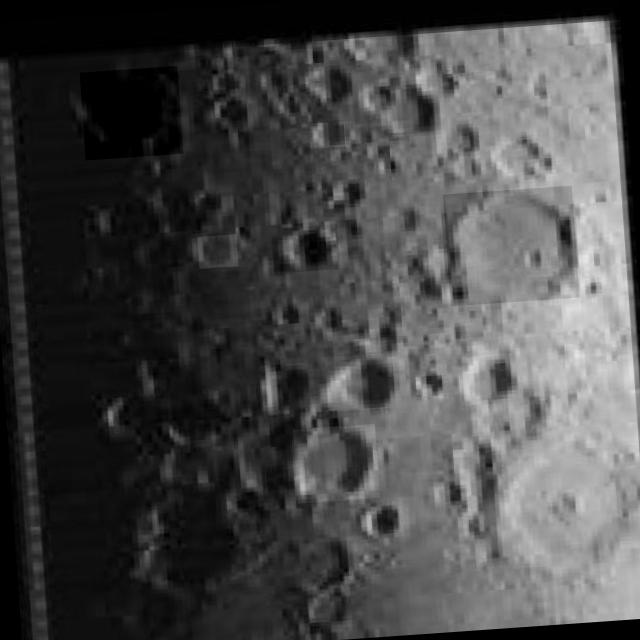crater: (442, 185, 580, 306), (79, 66, 183, 160), (292, 424, 380, 504), (321, 352, 396, 412), (379, 83, 434, 135), (282, 224, 340, 272), (461, 353, 514, 399), (362, 502, 400, 540), (197, 234, 238, 268), (308, 121, 346, 148)
